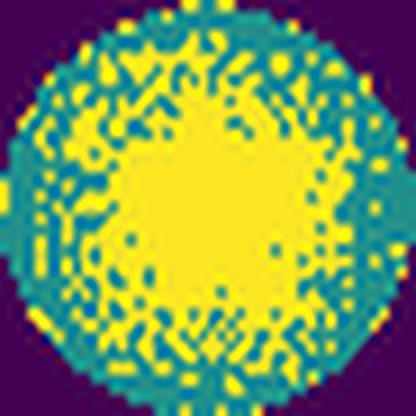Center: (64, 46, 358, 360)
